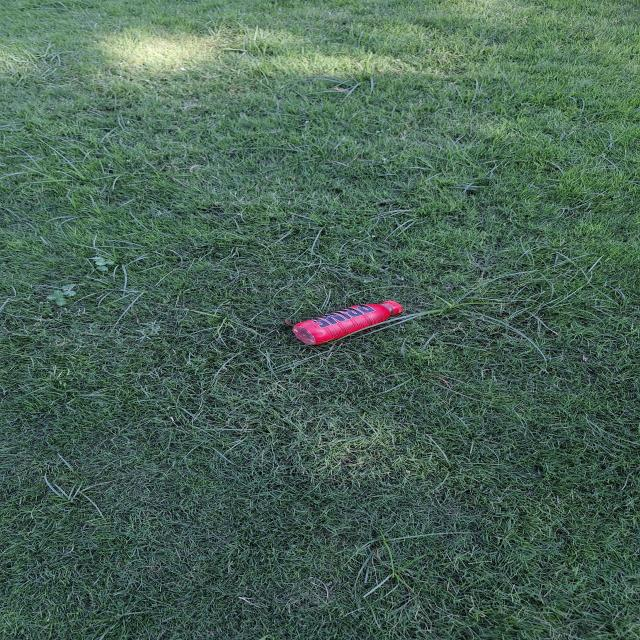Prime - Shitass: (282, 297, 399, 342)
